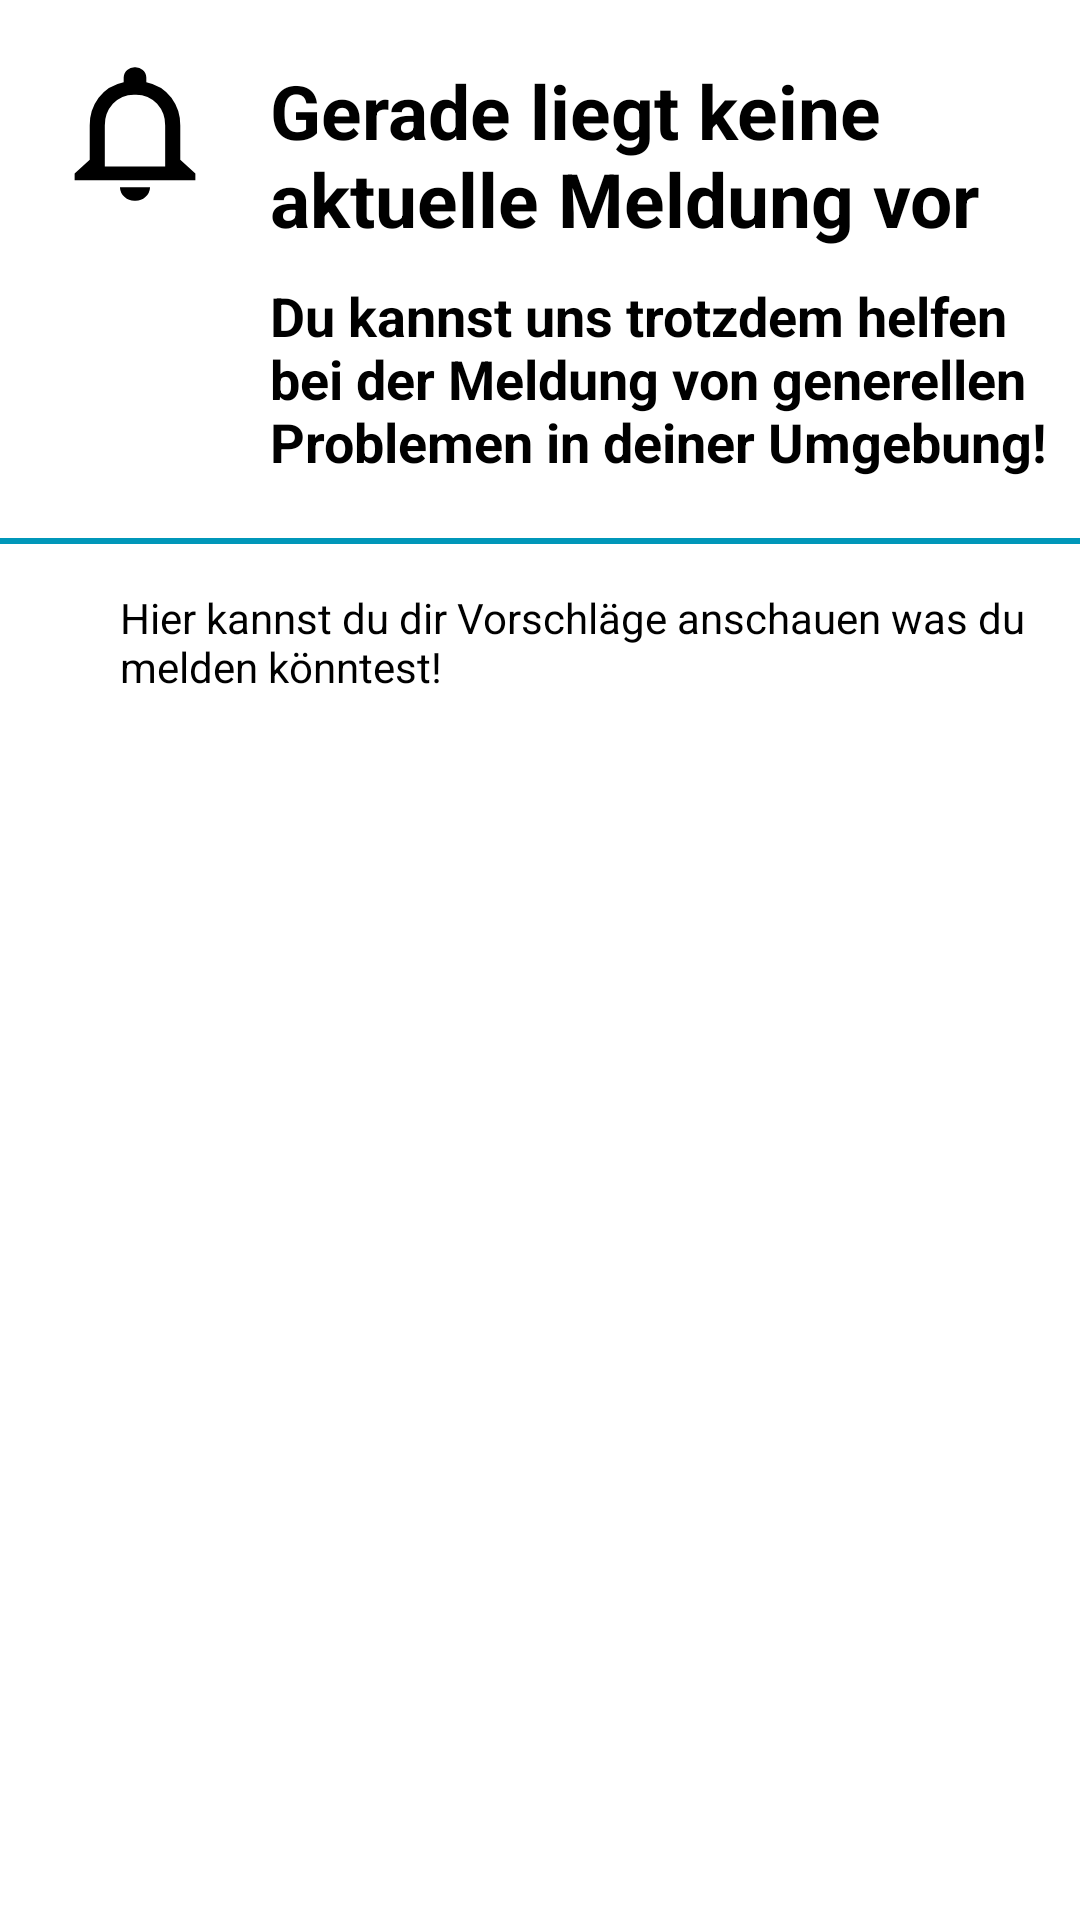

Icon bounding boxes for this 1080×1920 phone screenshot, format (x1, y1, x2, y2):
social notifications none: (74, 67, 196, 201)
